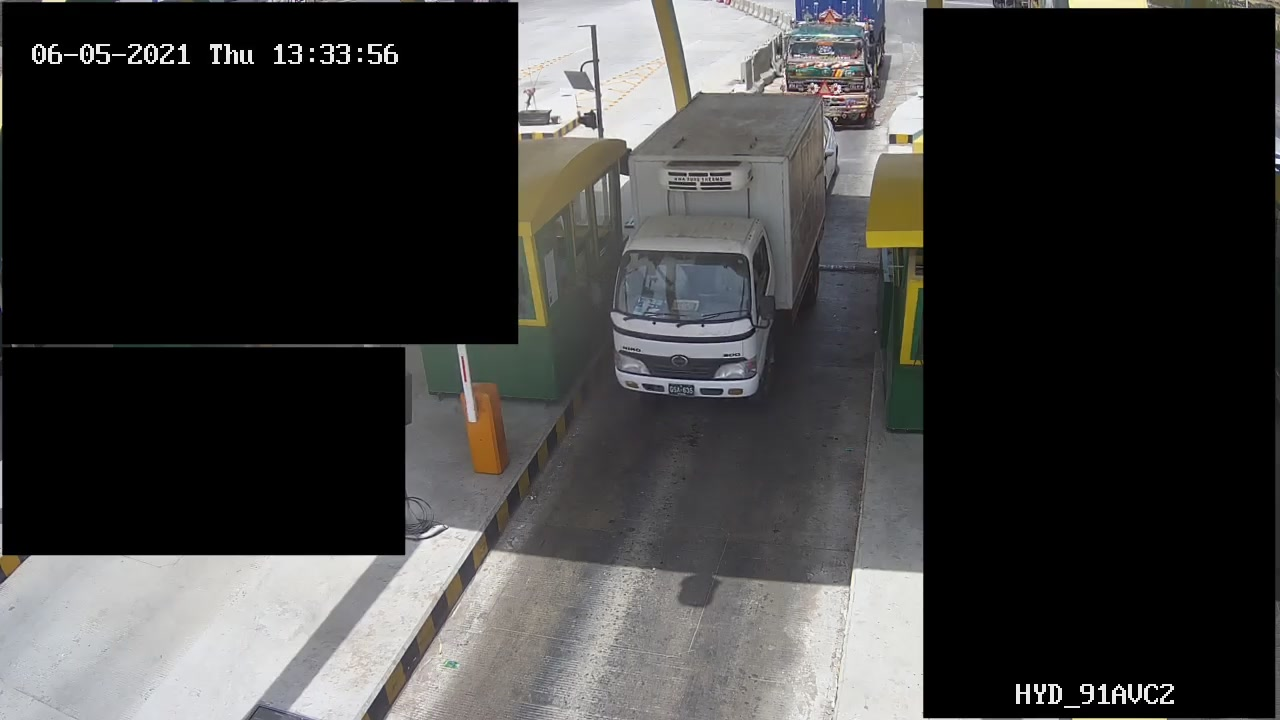F5: (606, 81, 833, 406)
